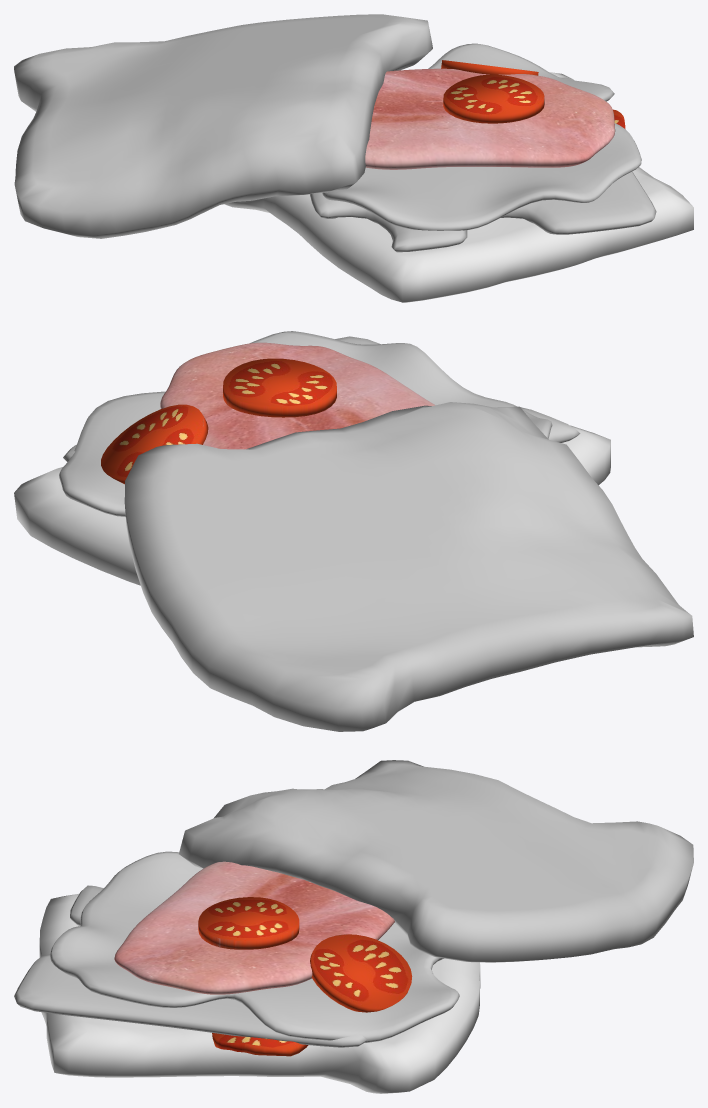
The model's file is Sandwitch.fbx.
The picture shows the model from 3 angles, top to bottom: view 1: azimuth 30°, elevation 25°; view 2: azimuth 150°, elevation 25°; view 3: azimuth 270°, elevation 25°; orthographic projection. The views are drawn at different scales.
Visible parts, largest first — view 1: Plane.006, Plane, Plane.004, Plane.005, Plane.001, Cylinder, Cylinder.003; view 2: Plane.006, Plane.004, Plane.005, Plane, Cylinder, Cylinder.003, Plane.001; view 3: Plane.006, Plane, Plane.005, Plane.004, Plane.001, Cylinder.003, Cylinder, Cylinder.001.
Boxes of the visible parts, x1,y1,x2,y2 form: Plane.006: (14,14,432,238); Plane: (224,72,693,302); Plane.004: (365,68,615,169); Plane.005: (322,43,641,230); Plane.001: (310,77,656,252); Cylinder: (443,74,544,123); Cylinder.003: (441,60,538,75); Plane.006: (124,402,693,731); Plane.004: (160,342,434,449); Plane.005: (59,331,552,516); Plane: (14,425,610,585); Cylinder: (223,358,336,417); Cylinder.003: (101,404,208,484); Plane.001: (63,336,580,461); Plane.006: (179,760,693,962); Plane: (39,894,480,1093); Plane.005: (50,851,459,1042); Plane.004: (114,861,394,994); Plane.001: (14,885,366,1047); Cylinder.003: (310,934,412,1012); Cylinder: (198,897,299,949); Cylinder.001: (212,1033,308,1056).
Size of the model in its own units: 608 by 133 by 609.
